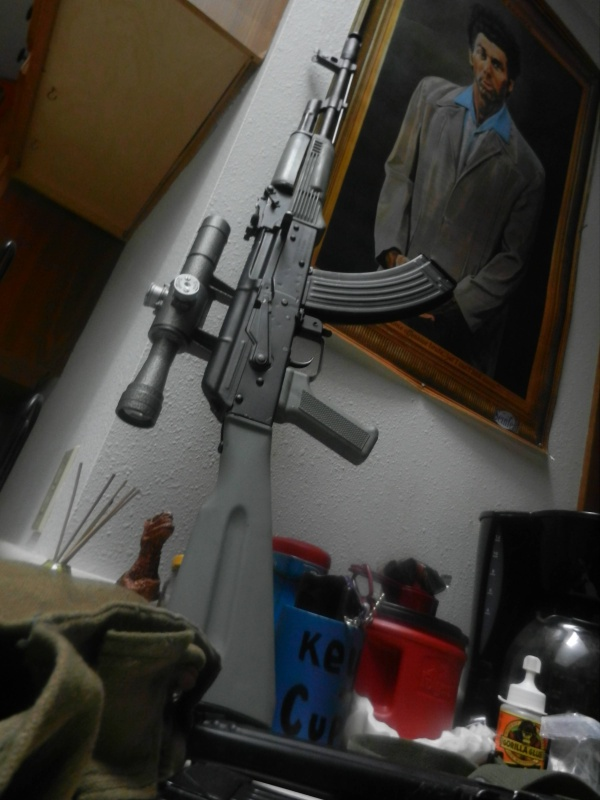ak47: (121, 1, 453, 737)
